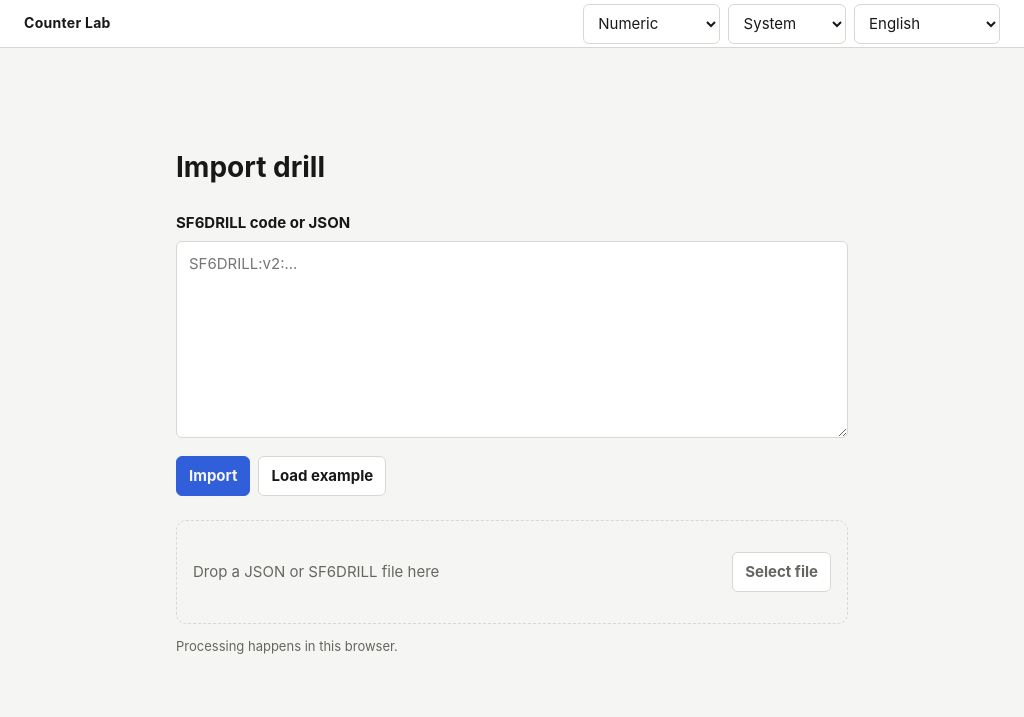
App › opens v2 export
The width and height of the screenshot is (1024, 717).
Click the button "Load example".
click(322, 476)  # box [258,456,386,496]
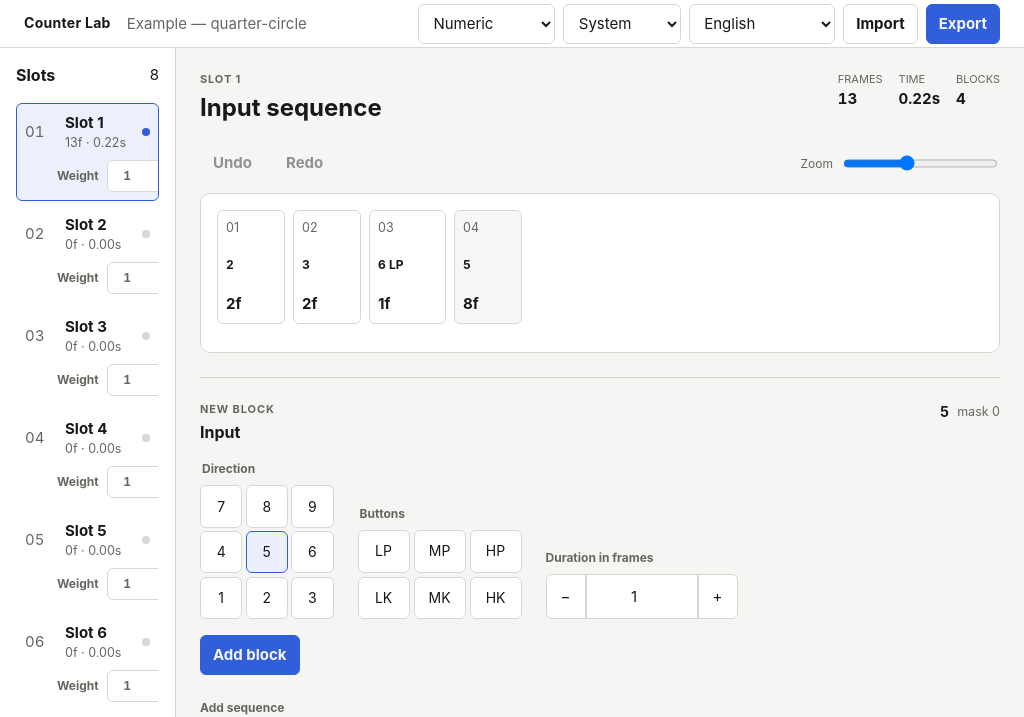
Click the button "Export".
click(963, 24)  # box [926,4,1000,44]
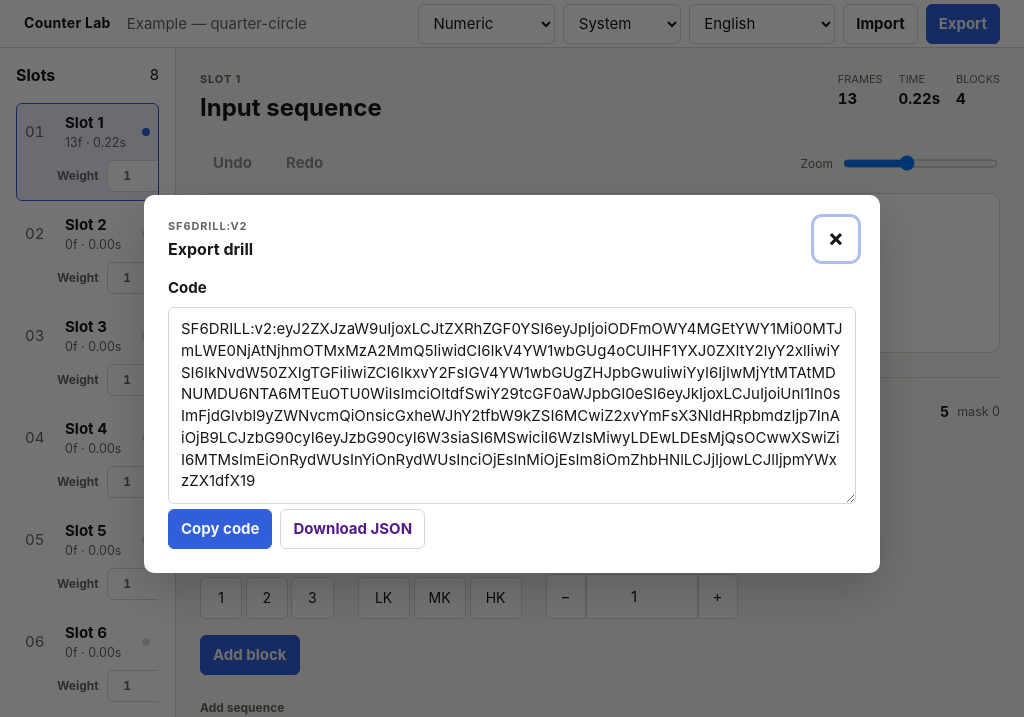
Expected: the dialog "Export drill" is shown, [144,195,880,573]
